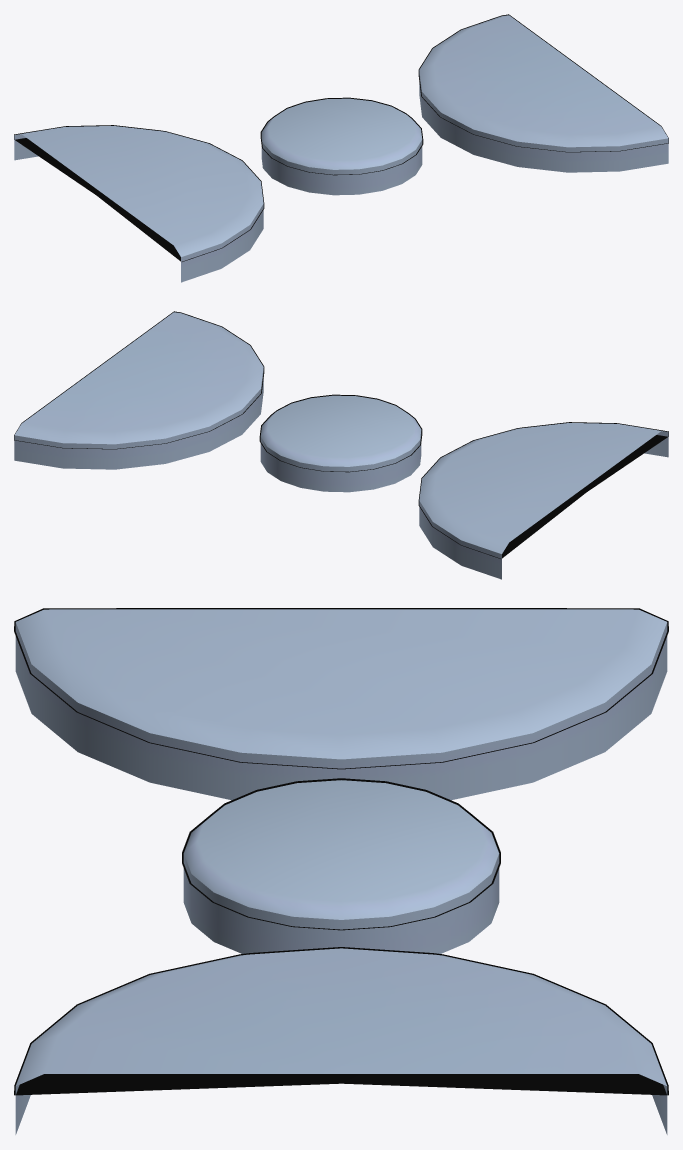
The model's file is pm-pattern-cylinder.glb.
3 renders of one model, top to bottom at view 1: azimuth 30°, elevation 25°; view 2: azimuth 150°, elevation 25°; view 3: azimuth 270°, elevation 25°, orthographic. The views are drawn at different scales.
Visible parts, largest first — view 1: Pattern_Cylinder; view 2: Pattern_Cylinder; view 3: Pattern_Cylinder.
Part boxes in pixels (box(x1,y1,x2,y2)): Pattern_Cylinder: box(14, 14, 668, 282); Pattern_Cylinder: box(14, 311, 668, 579); Pattern_Cylinder: box(14, 608, 668, 1134).
Size of the model in its own units: 8.4 by 0.5443 by 4.99.
Materials: 2 (1 with a texture image).
